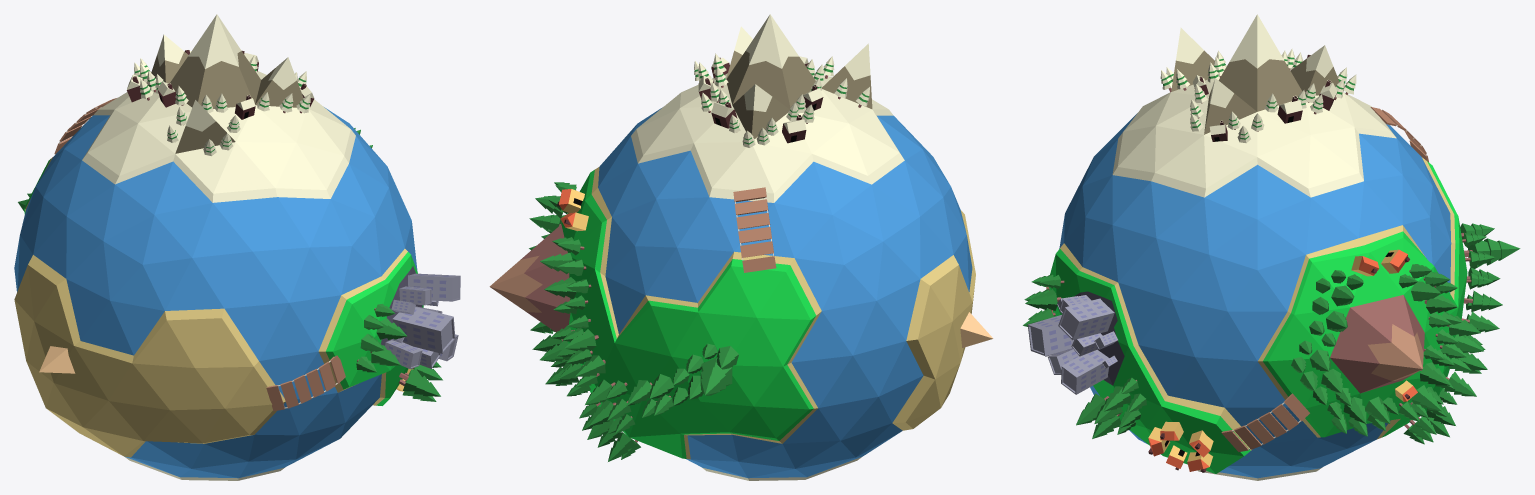
3 renders of one model, left to right at view 1: azimuth 30°, elevation 25°; view 2: azimuth 150°, elevation 25°; view 3: azimuth 270°, elevation 25°, orthographic.
Parts seen in each view (by area): view 1: Planet, Building, Cube.002, Building.004, Cone.002, Building.007, Cylinder.007, Building.005, Cube; view 2: Planet, Cube, Cone.236, Cone.002; view 3: Planet, Cube.001, Building.004, Building.001, Building, Cone.236, Cube.
Boxes of the visible parts, left/top/right/bottom form: Planet: left=14, top=14, right=423, bottom=480; Building: left=392, top=307, right=455, bottom=353; Cube.002: left=266, top=355, right=345, bottom=411; Building.004: left=408, top=273, right=460, bottom=301; Cone.002: left=39, top=346, right=75, bottom=373; Building.007: left=385, top=340, right=422, bottom=369; Cylinder.007: left=399, top=368, right=440, bottom=396; Building.005: left=399, top=286, right=431, bottom=305; Cube: left=54, top=98, right=116, bottom=154; Planet: left=489, top=14, right=975, bottom=480; Cube: left=733, top=187, right=776, bottom=272; Cone.236: left=700, top=357, right=732, bottom=395; Cone.002: left=960, top=312, right=993, bottom=347; Planet: left=1049, top=14, right=1467, bottom=480; Cube.001: left=1221, top=393, right=1309, bottom=451; Building.004: left=1058, top=298, right=1114, bottom=340; Building.001: left=1061, top=349, right=1109, bottom=394; Building: left=1027, top=315, right=1073, bottom=355; Cone.236: left=1464, top=238, right=1520, bottom=268; Cube: left=1370, top=107, right=1428, bottom=162.
Size of the model in its own units: 231 by 245 by 246.
